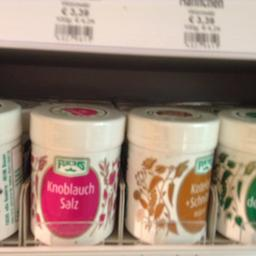spices: (28, 102, 124, 246), (124, 106, 218, 244)
